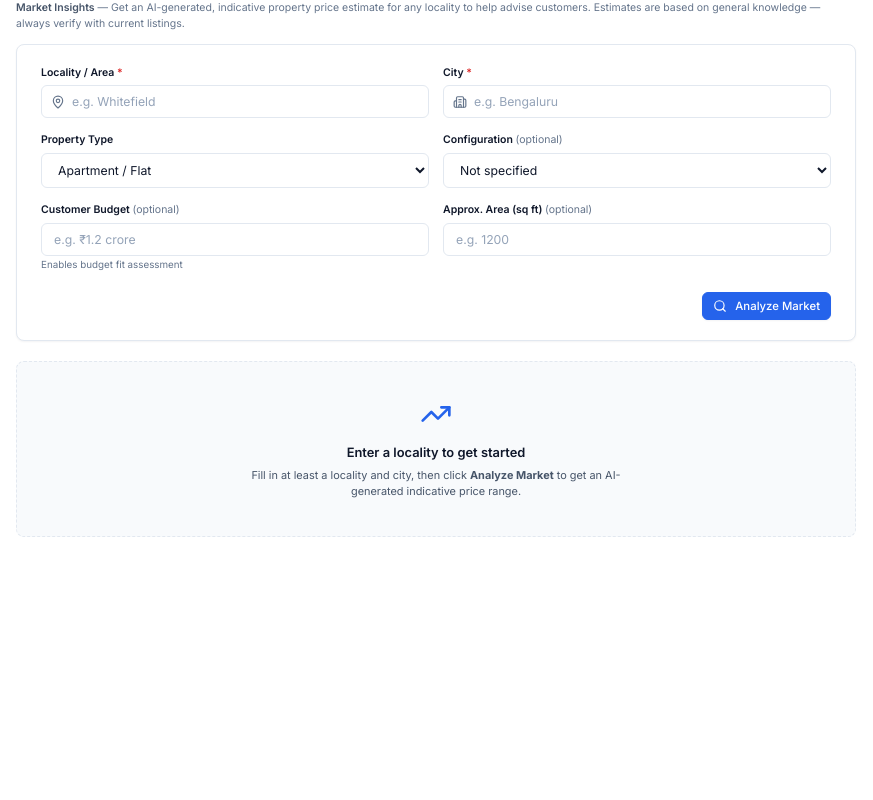
Test case: MarketInsights — Success Results › renders questions to verify
The image size is (873, 800).
In the field with placeholder "e.g. Whitefield": (235, 102) [41,85,429,118], type "Whitefield"
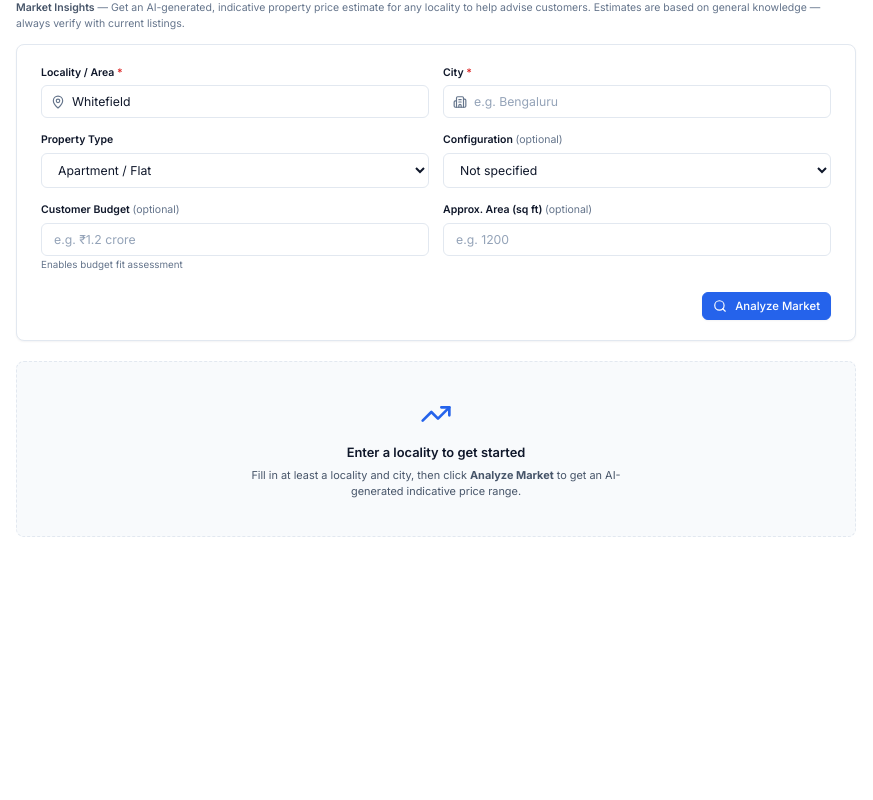
In the field with placeholder "e.g. Bengaluru": (637, 102) [443,85,831,118], type "Bengaluru"
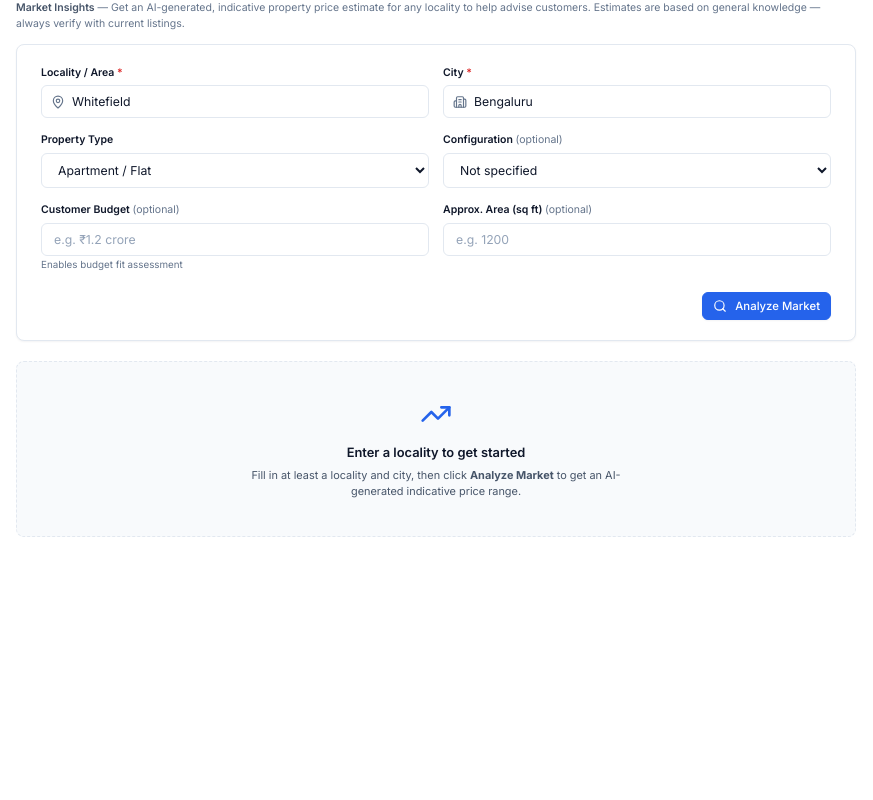
Click the button "Analyze Market": (767, 306) [702,292,831,320]
(page scrolled)
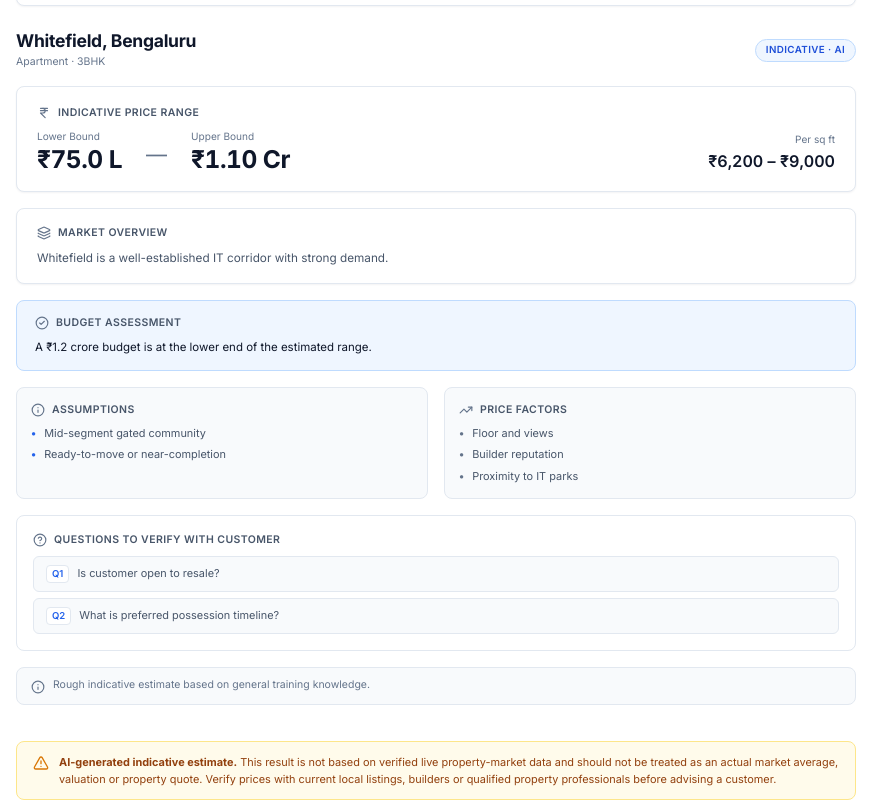
Expected: the text "Is customer open to resale?" is shown, [77,565,220,581]
